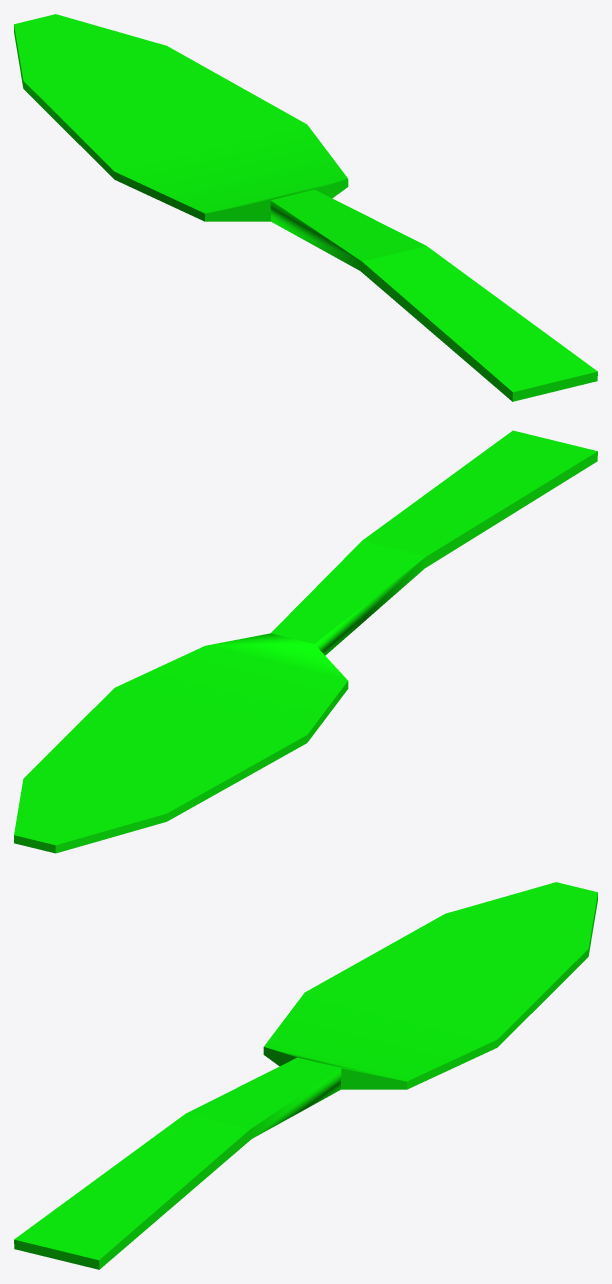
File: SM_KitchenTool_07_Collider.fbx
The picture shows the model from 3 angles, top to bottom: view 1: azimuth 30°, elevation 25°; view 2: azimuth 150°, elevation 25°; view 3: azimuth 330°, elevation 25°; orthographic projection.
Parts seen in each view (by area): view 1: SM_KitchenTool_07_Collider; view 2: SM_KitchenTool_07_Collider; view 3: SM_KitchenTool_07_Collider.
Part boxes in pixels (bbox=[...]): SM_KitchenTool_07_Collider: bbox=[14, 14, 597, 401]; SM_KitchenTool_07_Collider: bbox=[14, 430, 597, 853]; SM_KitchenTool_07_Collider: bbox=[14, 882, 597, 1269].
Size of the model in its own units: 9.54 by 1.74 by 44.63.
